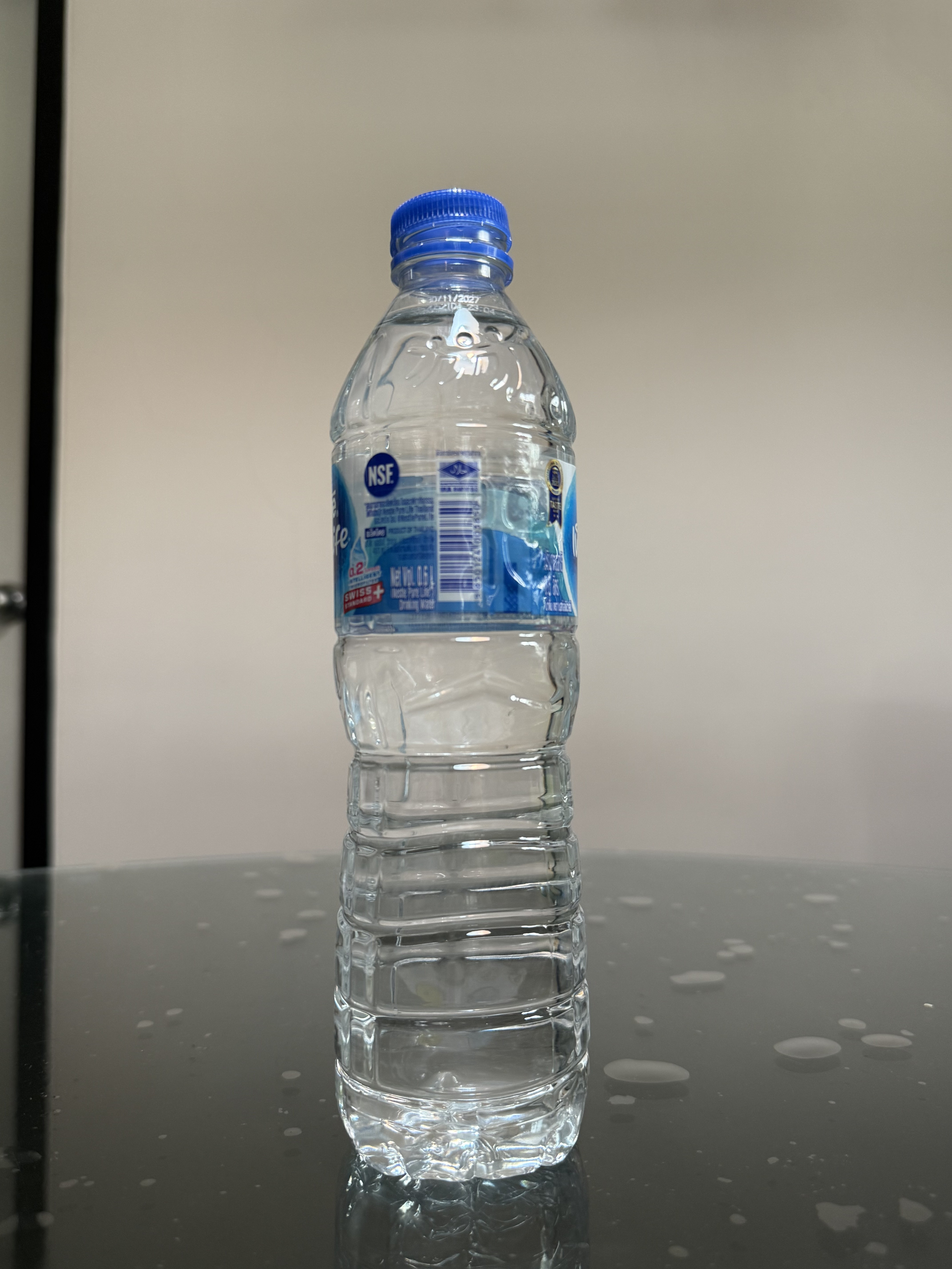half_cap: (386, 184, 515, 289)
